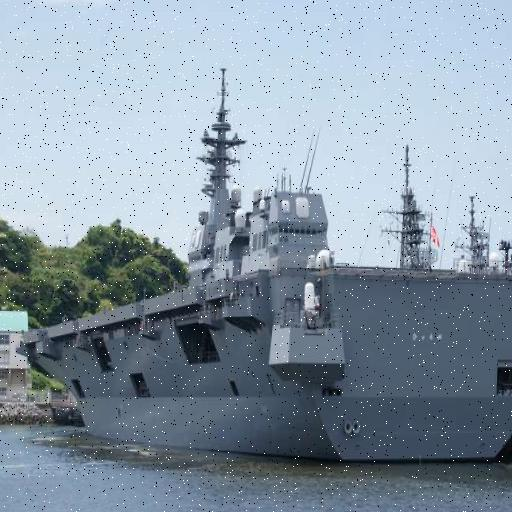Portanaves: (16, 61, 512, 471)
